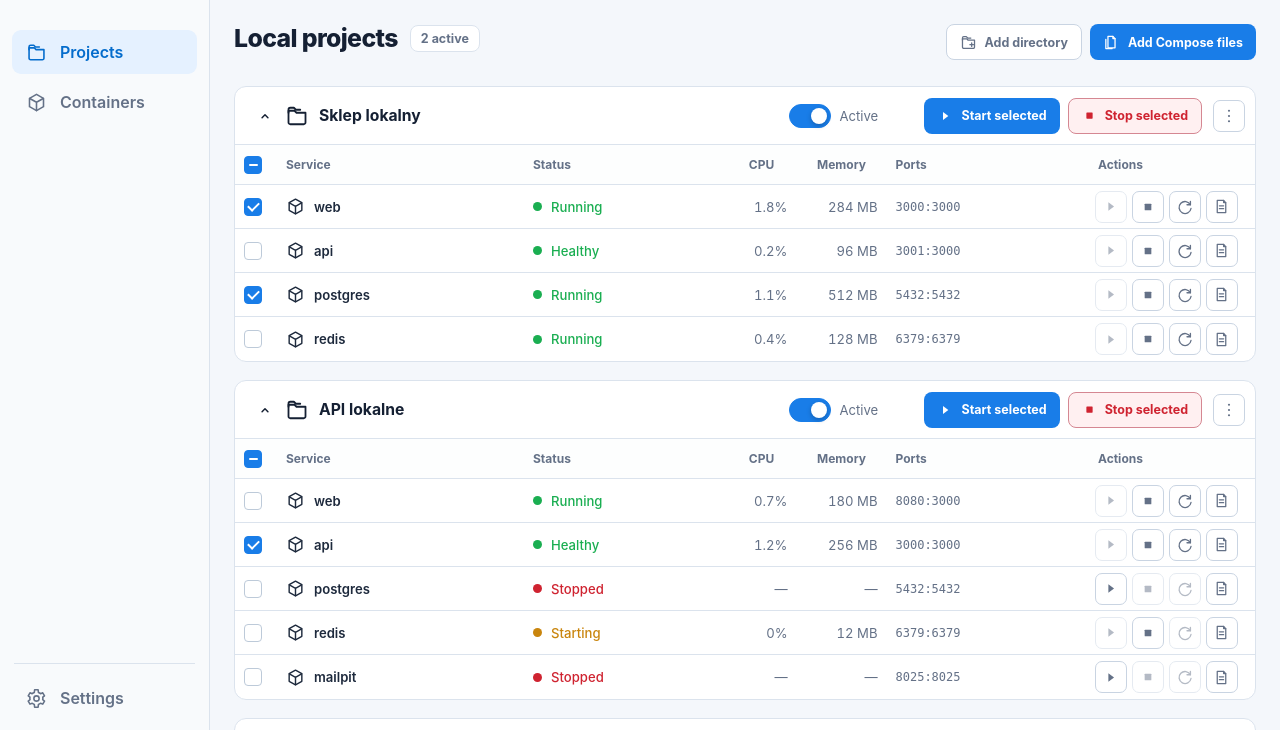
Test: App › imports a Compose project and enables an optional profile
Check: the heading "Local projects" is shown, box x1=234 y1=24 x2=398 y2=54
Click the button "Add Compose files" at (1173, 42), box x1=1090 y1=24 x2=1256 y2=60
(page scrolled)
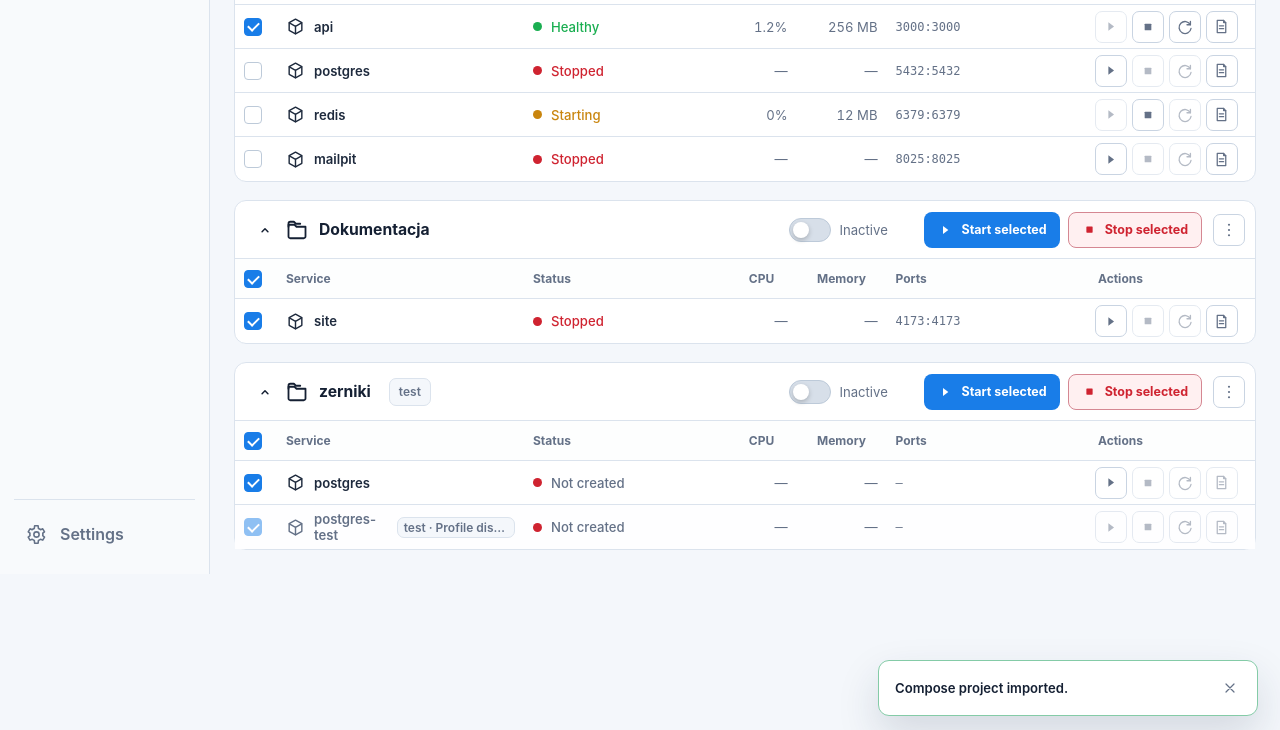
Check: the row with test id "service-compose:zerniki:postgres-test" shows "Profile disabled", box x1=429 y1=520 x2=526 y2=534
Click the 9th checkbox labelled "test" at (410, 392), box x1=389 y1=378 x2=431 y2=406
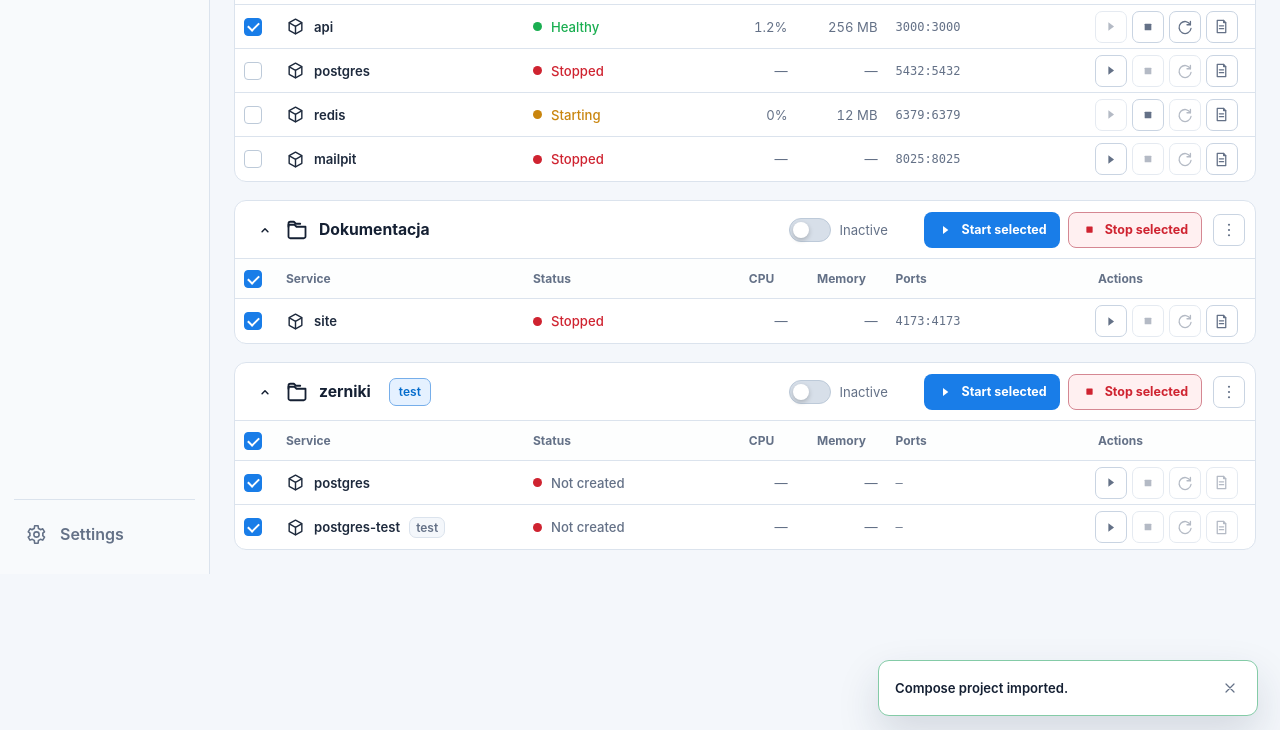
Check: the row with test id "service-compose:zerniki:postgres-test" shows "Not created", box x1=551 y1=519 x2=625 y2=535
Check: the checkbox named "Service: postgres-test" is checked, box x1=244 y1=518 x2=262 y2=536
Click the button named "More actions for zerniki" at (1229, 392), box x1=1213 y1=376 x2=1245 y2=408
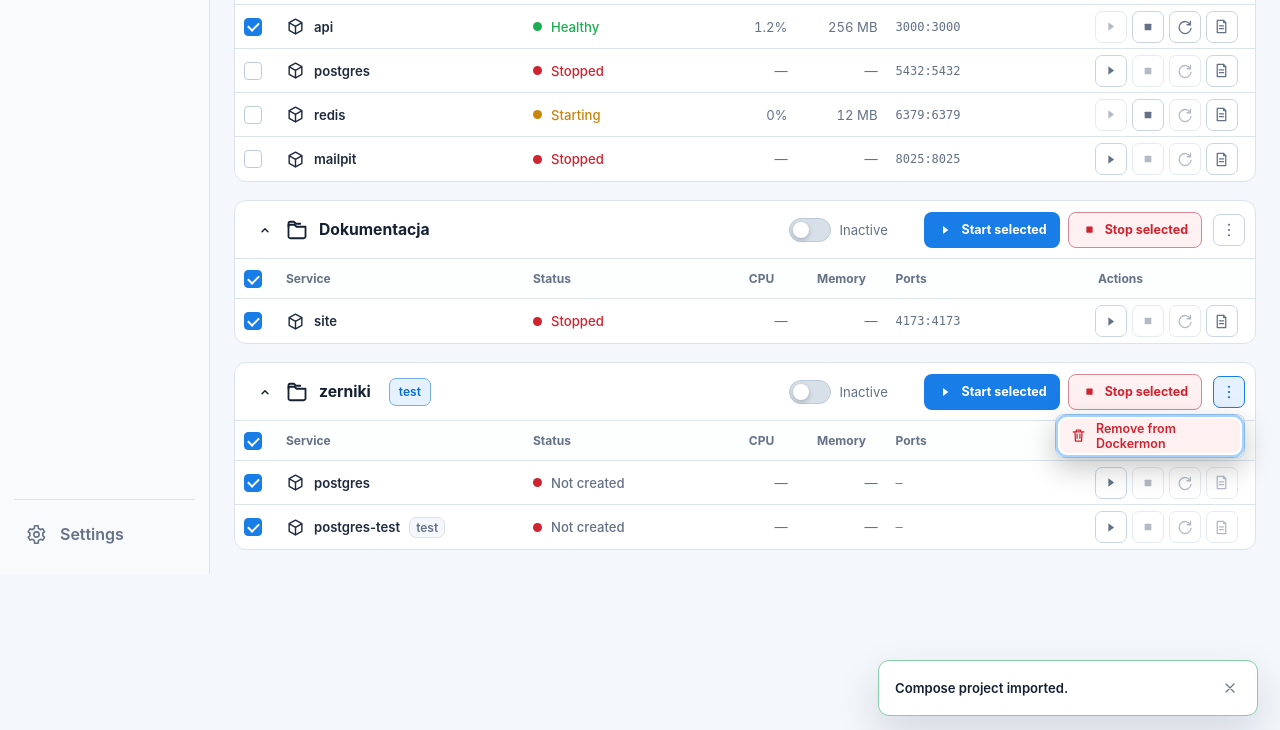
Press Escape
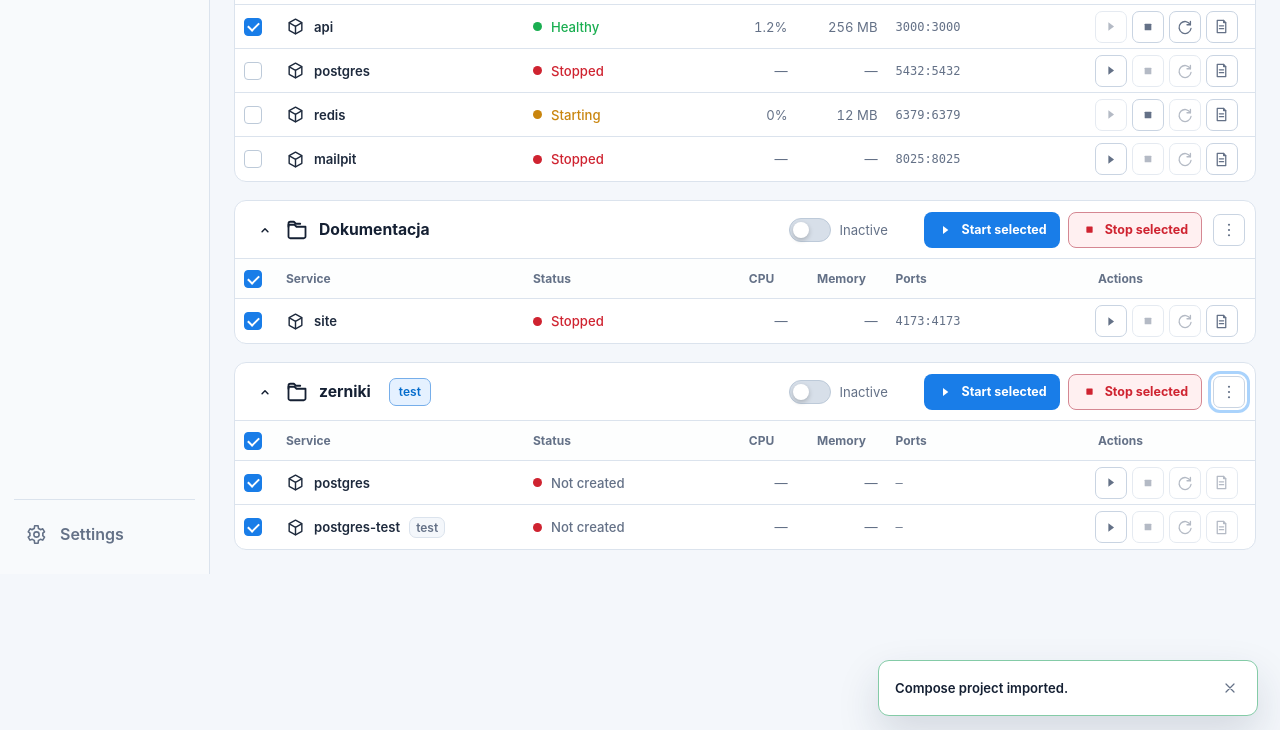
Check: the menu item is gone
Click the button named "More actions for zerniki" at (1229, 392), box x1=1213 y1=376 x2=1245 y2=408
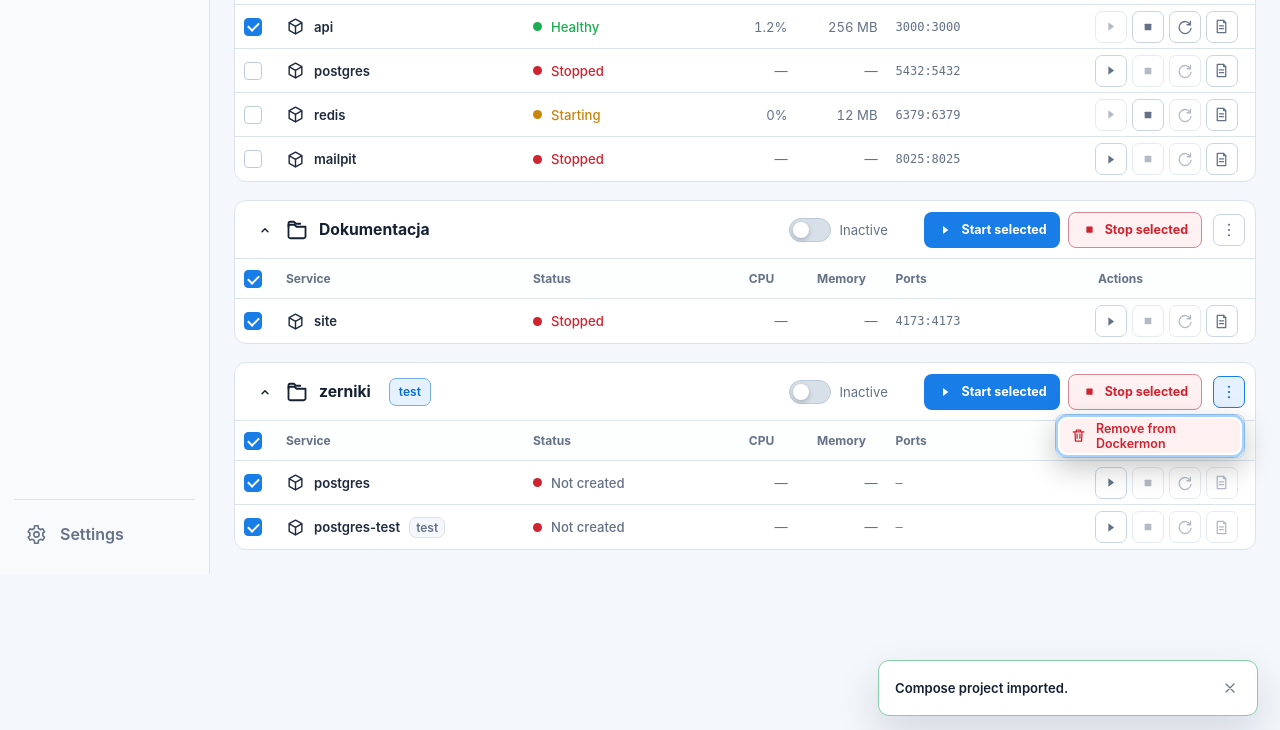
Click the menu item "Remove from Dockermon" at (1150, 436), box x1=1060 y1=418 x2=1240 y2=452
(page scrolled)
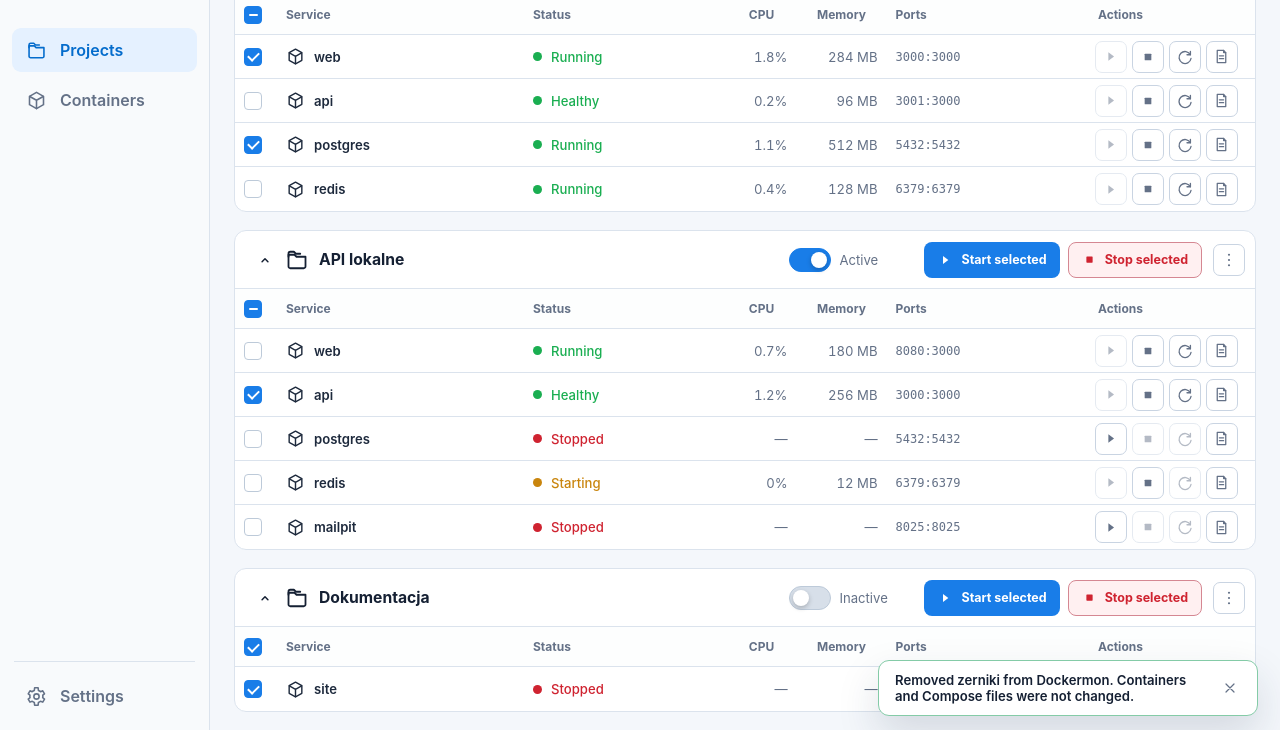
Check: the text "Removed zerniki from Dockermon. Containers and Compose files were not changed." is shown, box x1=895 y1=672 x2=1197 y2=704
